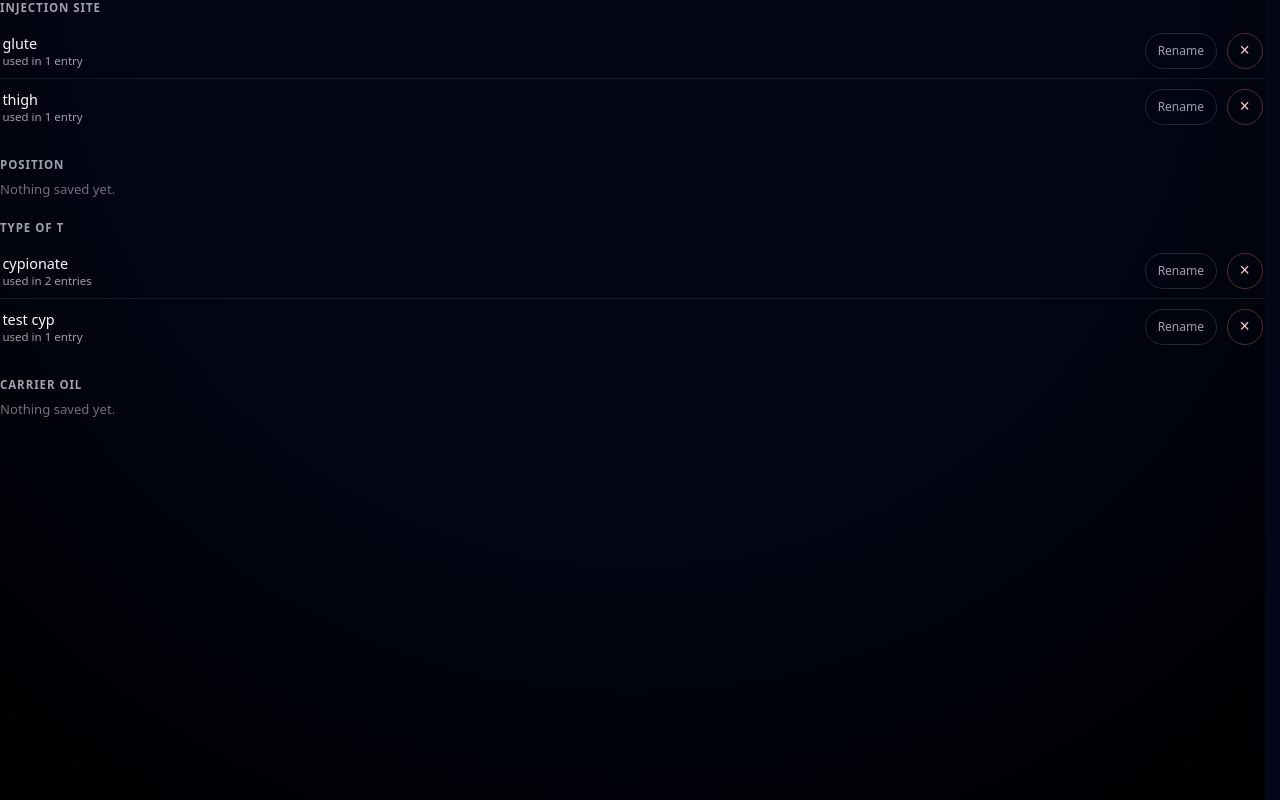
it: ManageValues › holds the remove dialog open when the change can't be written
Click the button named "Remove test cyp" at [1245, 327], box [1227,309,1263,345]
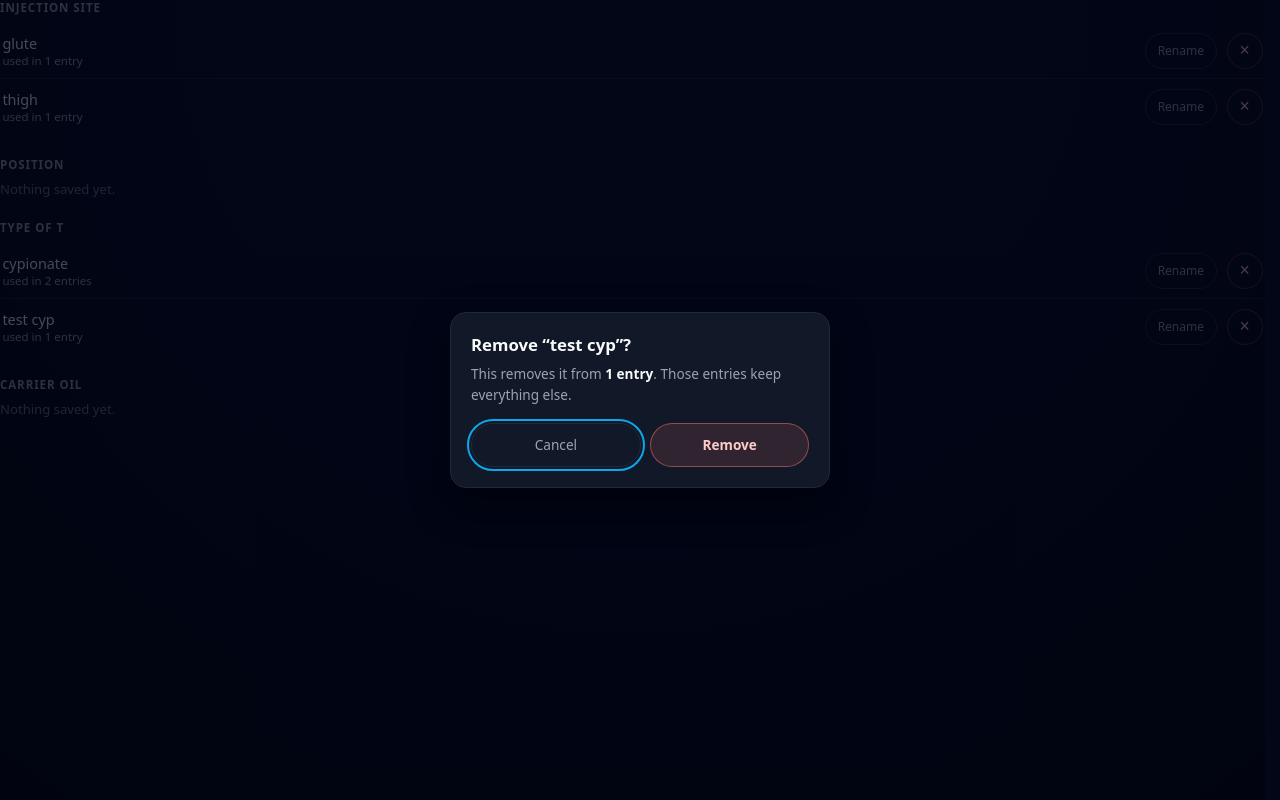
Click the button "Remove" at [730, 445], box [650,423,809,467]
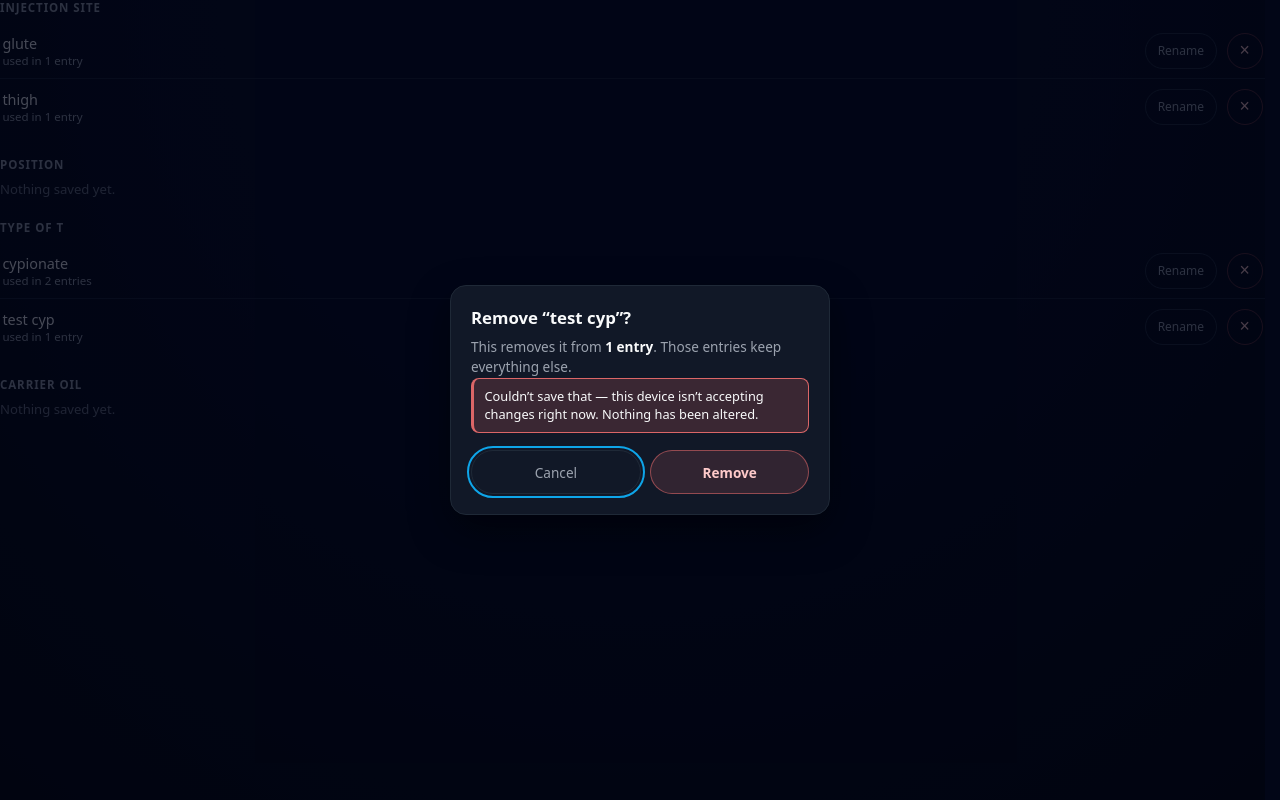
expect the text "test cyp" is shown: met, box [2,310,55,329]
expect the dialog is shown: met
expect the message shows "Couldn.t save that": met, box [484,386,764,423]
